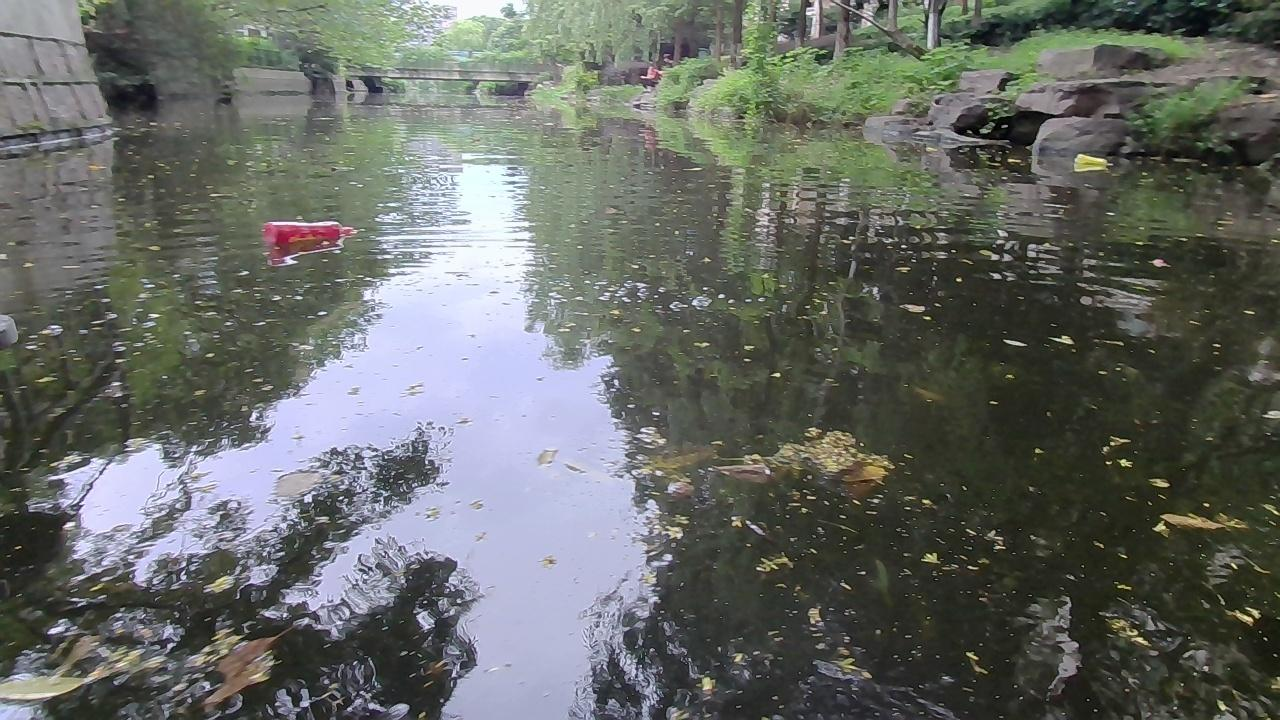bottle: (258, 220, 362, 252), (1074, 154, 1114, 172)
